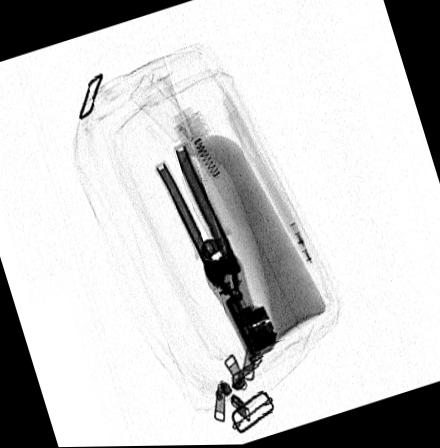Pliers: (154, 146, 277, 359)
